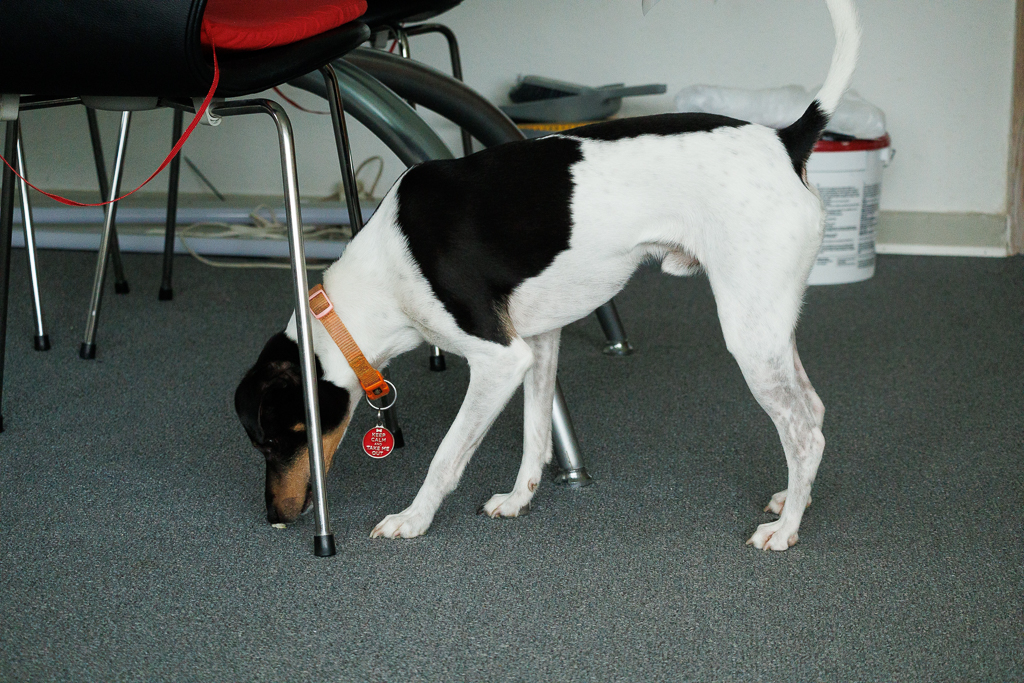Dog: (223, 0, 875, 562)
